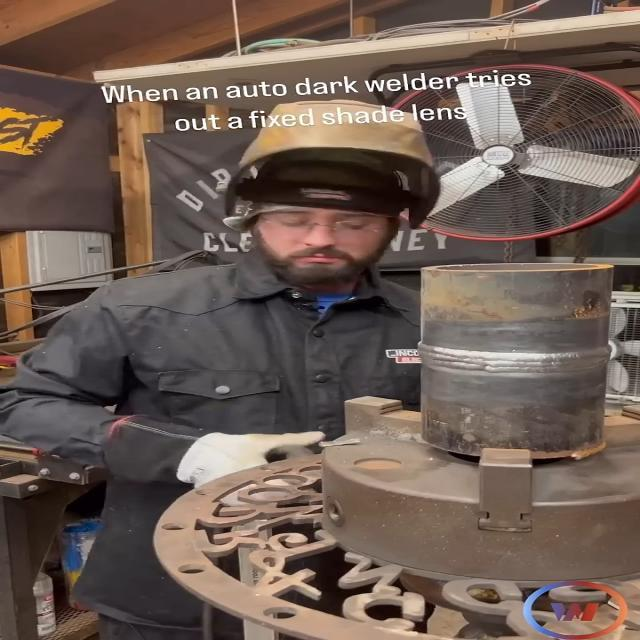helmet_lifted: (225, 102, 439, 291)
without_helmet: (247, 207, 403, 290)
